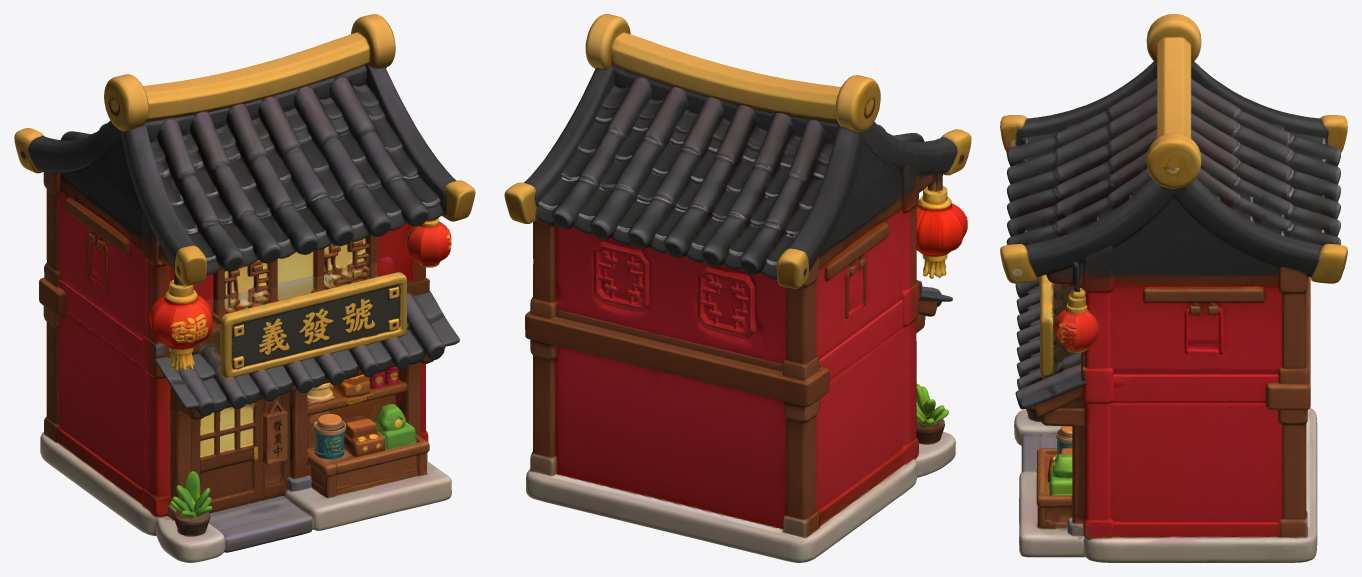
The model's file is prop_shop.glb.
3 renders of one model, left to right at view 1: azimuth 30°, elevation 25°; view 2: azimuth 150°, elevation 25°; view 3: azimuth 270°, elevation 25°, orthographic. The views are drawn at different scales.
Bounding box in the file's own units: 1.46 × 1.9 × 1.42.
Materials: 1 (1 with a texture image).
